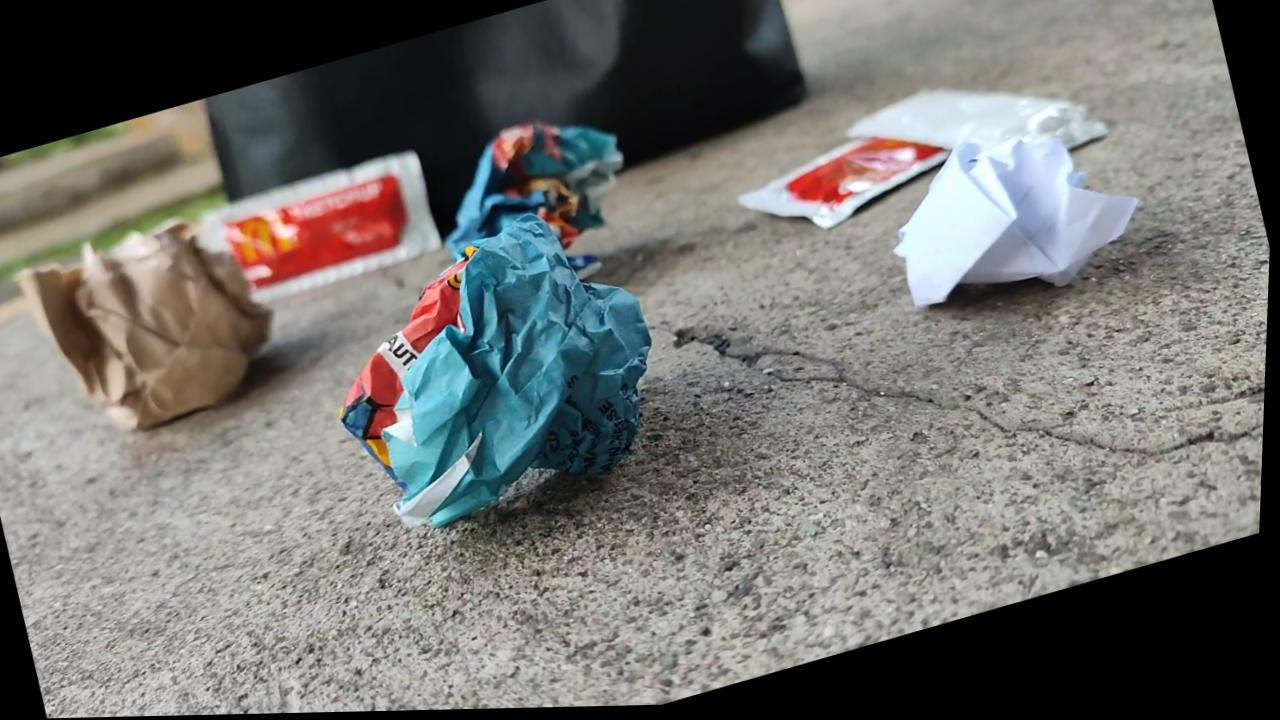paper: (342, 214, 649, 525), (853, 90, 1136, 305), (21, 217, 269, 428), (448, 122, 622, 275)
